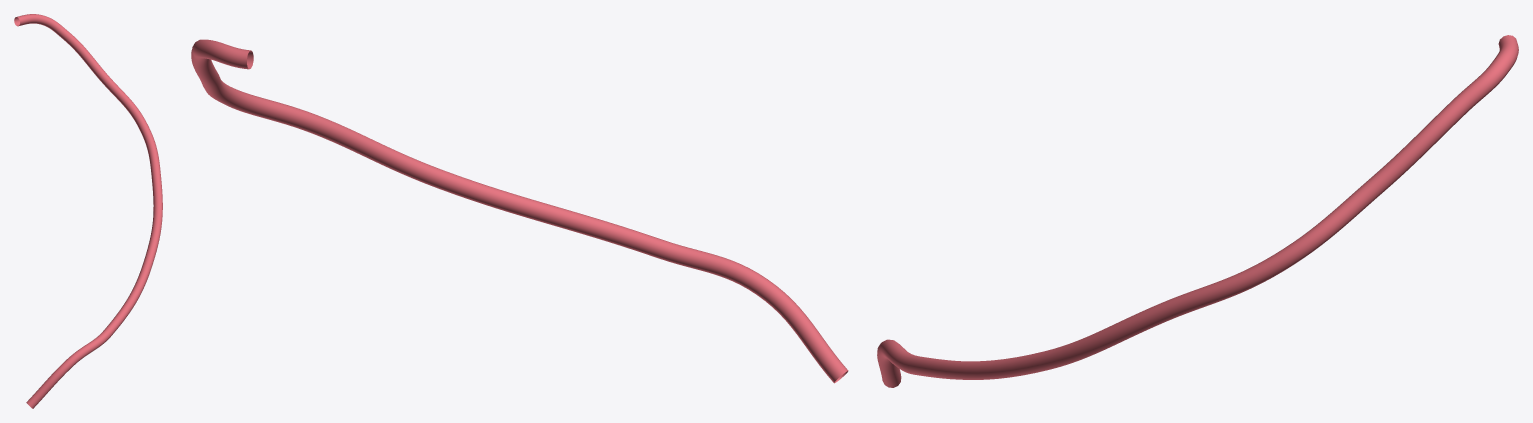
3 renders of one model, left to right at view 1: azimuth 30°, elevation 25°; view 2: azimuth 150°, elevation 25°; view 3: azimuth 270°, elevation 25°, orthographic. The views are drawn at different scales.
Visible parts, largest first — view 1: ZA_8b787379a406311e; view 2: ZA_8b787379a406311e; view 3: ZA_8b787379a406311e.
Boxes of the visible parts, x1,y1,x2,y2 form: ZA_8b787379a406311e: [14, 14, 162, 408]; ZA_8b787379a406311e: [191, 39, 848, 383]; ZA_8b787379a406311e: [877, 35, 1518, 387].
Size of the model in its own units: 0.052 by 0.0563 by 0.067.
